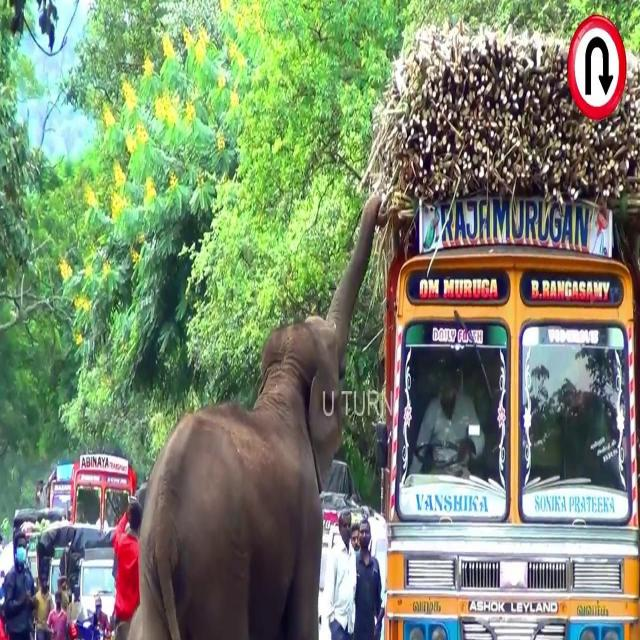Elephant: (136, 191, 388, 634)
